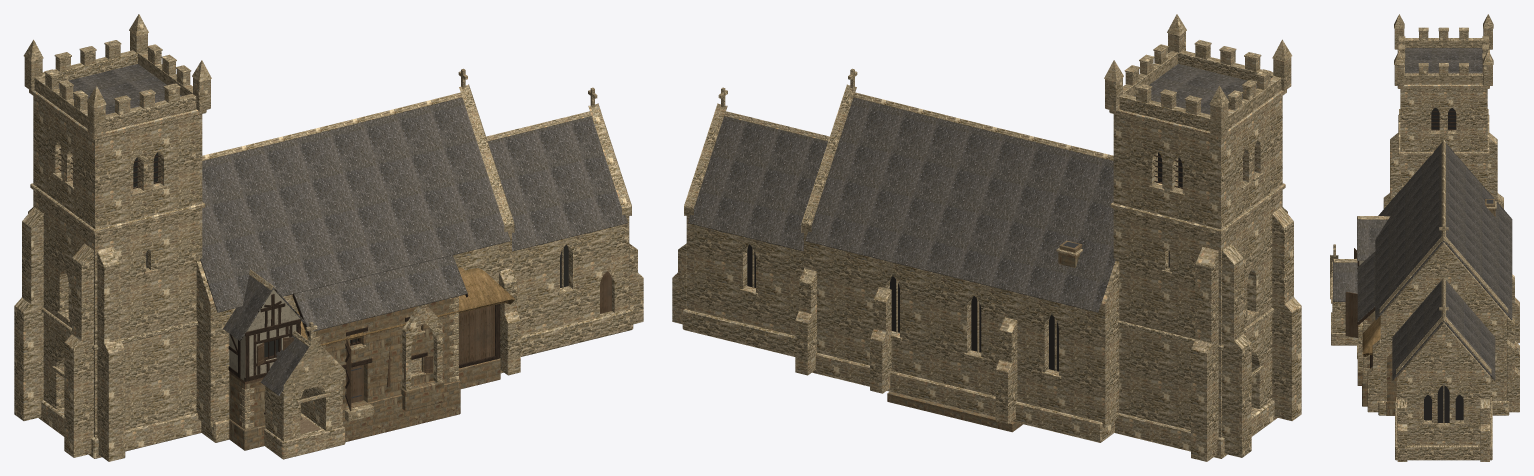
File: england.glb
The picture shows the model from 3 angles, left to right: view 1: azimuth 30°, elevation 25°; view 2: azimuth 150°, elevation 25°; view 3: azimuth 270°, elevation 25°; orthographic projection. The views are drawn at different scales.
Visible parts, largest first — view 1: church_mesh, mill_mesh, manor_mesh, barn_mesh; view 2: church_mesh, mill_mesh; view 3: church_mesh, manor_mesh, mill_mesh, barn_mesh.
Part boxes in pixels (box(x1,y1,x2,y2)): church_mesh: box(14, 14, 643, 461); mill_mesh: box(292, 255, 468, 442); manor_mesh: box(223, 269, 443, 450); barn_mesh: box(296, 267, 515, 411); church_mesh: box(672, 14, 1301, 461); mill_mesh: box(887, 391, 1022, 432); church_mesh: box(1330, 14, 1519, 461); manor_mesh: box(1354, 199, 1496, 415); mill_mesh: box(1357, 251, 1375, 406); barn_mesh: box(1345, 292, 1380, 368).
Size of the model in its own units: 30.7 by 20.55 by 12.6.
15 materials, 10 textured.
